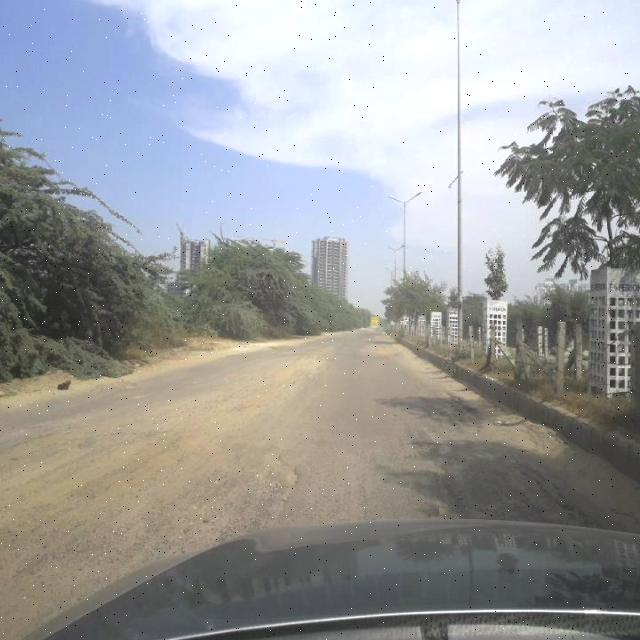D00: (353, 444, 375, 518)
D40: (0, 408, 316, 604), (406, 415, 602, 528)
